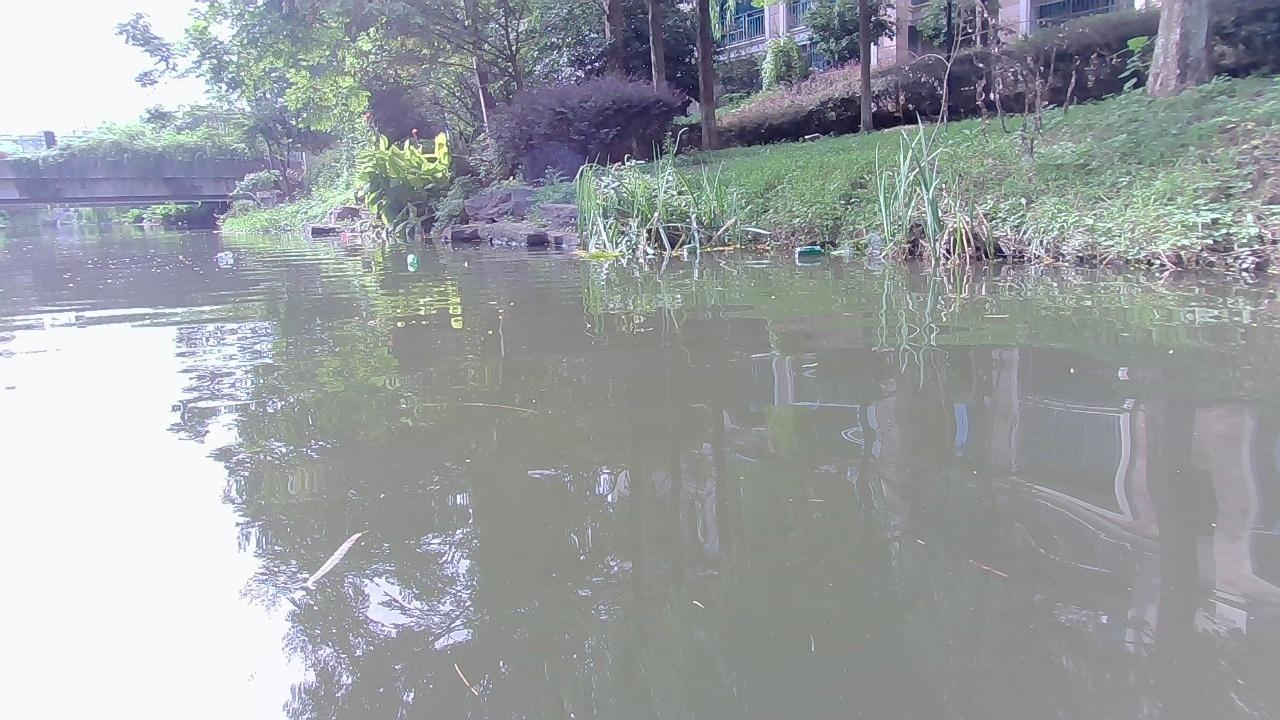bottle: (792, 247, 819, 257), (212, 250, 234, 259), (403, 251, 416, 265), (340, 232, 355, 241)
